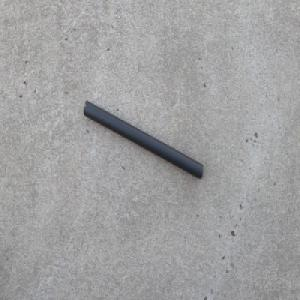LuggagePart: (82, 100, 204, 180)
